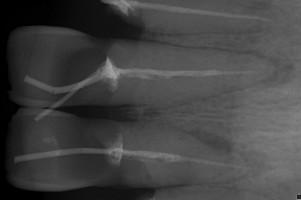Furcation Involvement: (190, 130, 271, 183), (228, 49, 299, 87)
